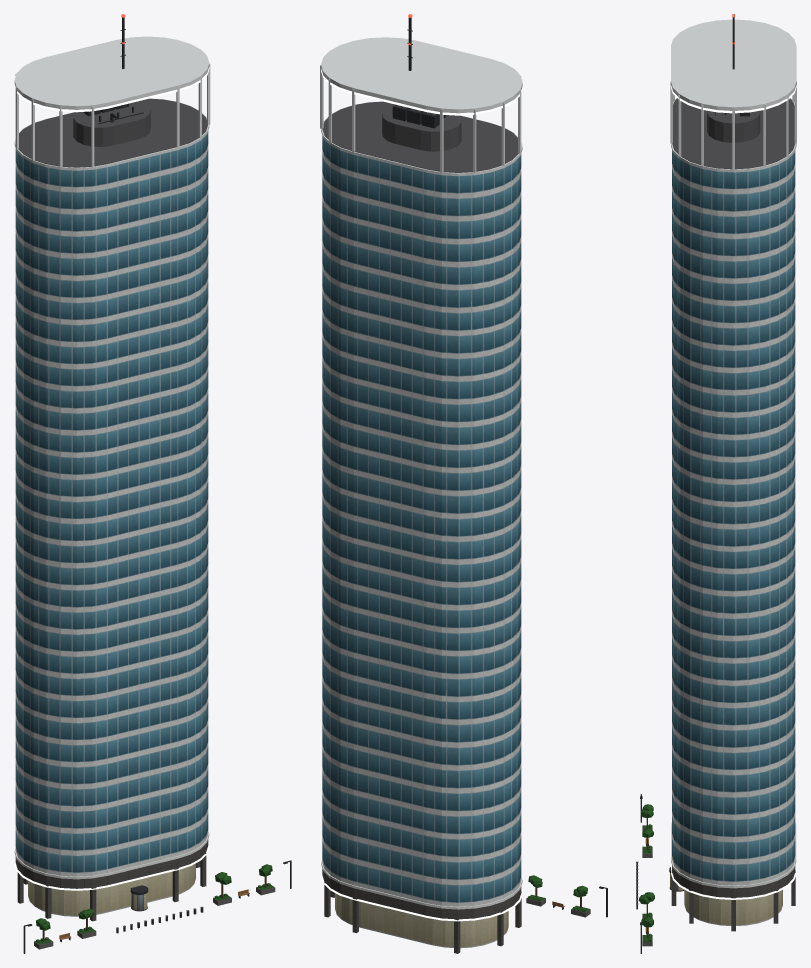
File: OfficeRound.glb
The picture shows the model from 3 angles, left to right: view 1: azimuth 30°, elevation 25°; view 2: azimuth 150°, elevation 25°; view 3: azimuth 270°, elevation 25°; orthographic projection. The views are drawn at different scales.
Visible parts, largest first — view 1: Glass, Frame, Roof, Lobby, Base, Light, Steel, Plant; view 2: Glass, Frame, Roof, Lobby, Base, Light, Steel; view 3: Glass, Frame, Roof, Lobby, Base, Light, Plant, Steel.
Boxes of the visible parts, bbox=[...] form: Glass: bbox=[15, 131, 208, 876]; Frame: bbox=[14, 36, 210, 879]; Roof: bbox=[18, 98, 207, 167]; Lobby: bbox=[28, 863, 195, 916]; Base: bbox=[15, 839, 208, 921]; Light: bbox=[14, 67, 209, 890]; Steel: bbox=[23, 17, 291, 953]; Plant: bbox=[35, 864, 273, 944]; Glass: bbox=[322, 136, 521, 906]; Frame: bbox=[320, 37, 522, 909]; Roof: bbox=[322, 101, 518, 172]; Lobby: bbox=[335, 893, 508, 948]; Base: bbox=[322, 869, 521, 953]; Light: bbox=[321, 69, 522, 921]; Steel: bbox=[392, 17, 607, 917]; Glass: bbox=[672, 150, 795, 885]; Frame: bbox=[670, 19, 796, 888]; Roof: bbox=[672, 98, 794, 169]; Lobby: bbox=[684, 889, 782, 925]; Base: bbox=[671, 866, 795, 931]; Light: bbox=[670, 49, 796, 899]; Plant: bbox=[639, 804, 654, 941]; Steel: bbox=[636, 17, 749, 953].
Bounding box in the file's own units: 152 × 472 × 78.35.
Materials: 13 (13 with a texture image).
